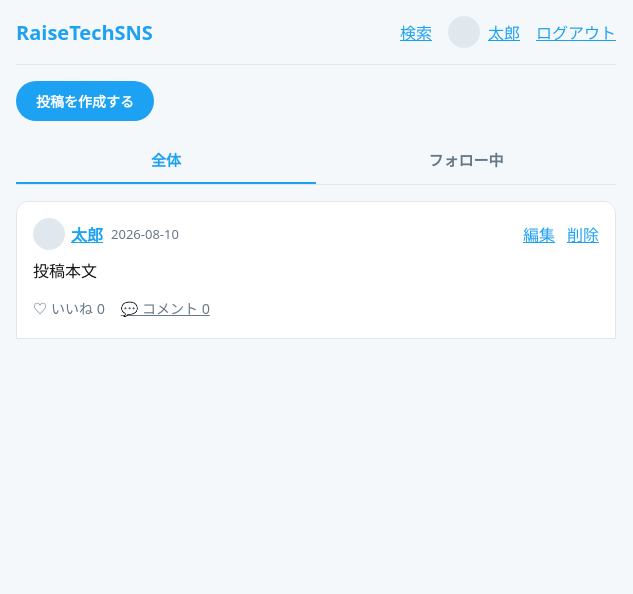
TimelineScreen › 投稿詳細ビューでコメント一覧が表示される
Expected: the text "投稿本文" is shown, [33,260,97,282]
Click the button "💬 コメント 0": (165, 308) [121,298,210,318]
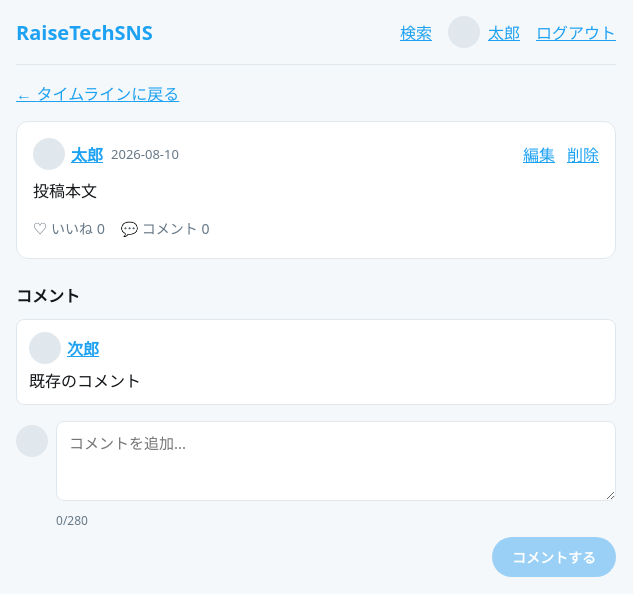
Result: the text "既存のコメント" is shown at [29,370,141,392]
